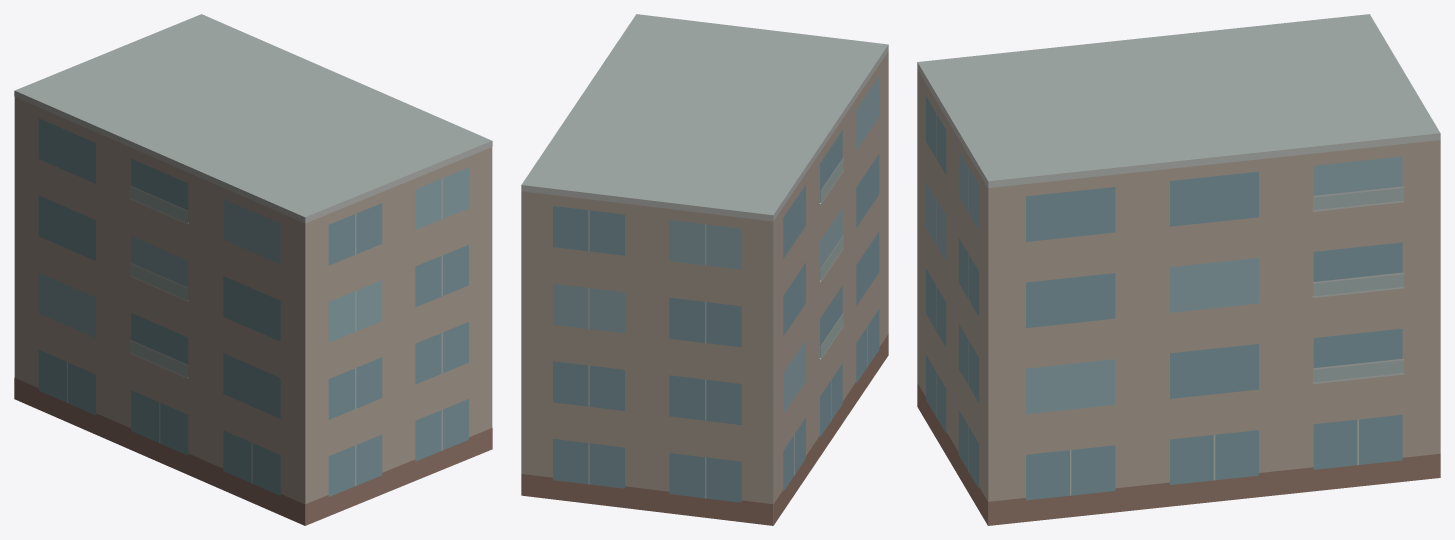
The model's file is residential-ff1a3883-d24d-4b36-b99c-662132f76949.glb.
3 views of the same model, side by side, from view 1: azimuth 30°, elevation 25°; view 2: azimuth 150°, elevation 25°; view 3: azimuth 270°, elevation 25° (orthographic). The views are drawn at different scales.
Visible parts, largest first — view 1: residential-ff1a3883-d24d-4b36-b99c-662132f76949.tmp; view 2: residential-ff1a3883-d24d-4b36-b99c-662132f76949.tmp; view 3: residential-ff1a3883-d24d-4b36-b99c-662132f76949.tmp.
Boxes of the visible parts, x1,y1,x2,y2 form: residential-ff1a3883-d24d-4b36-b99c-662132f76949.tmp: (14,14,492,525); residential-ff1a3883-d24d-4b36-b99c-662132f76949.tmp: (521,14,888,525); residential-ff1a3883-d24d-4b36-b99c-662132f76949.tmp: (917,14,1440,525).
Size of the model in its own units: 12.71 by 12.2 by 16.8.
